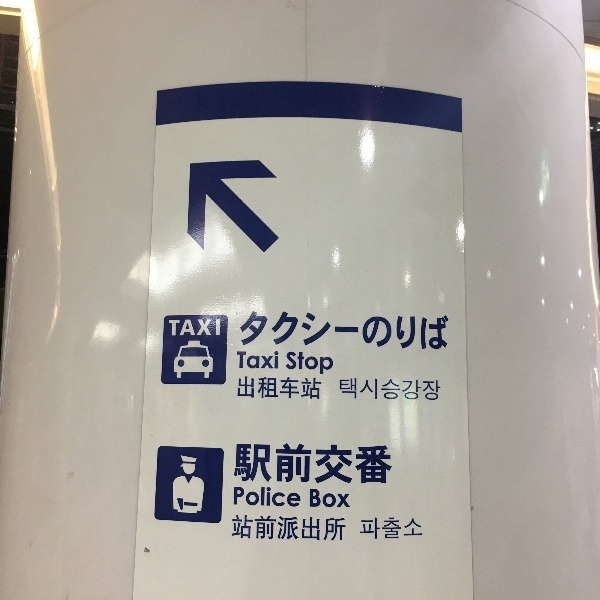text: (433, 312, 449, 351), (241, 444, 256, 485), (257, 444, 272, 485), (273, 444, 288, 485), (289, 444, 304, 485), (305, 444, 320, 485), (321, 444, 336, 485), (337, 444, 352, 485), (353, 444, 368, 485), (369, 444, 384, 485), (257, 312, 272, 351), (273, 312, 288, 351), (289, 312, 304, 351), (305, 312, 320, 351), (321, 312, 336, 351), (337, 312, 352, 351), (353, 312, 368, 351), (369, 312, 384, 351), (385, 312, 400, 351), (401, 312, 416, 351), (417, 312, 432, 351), (242, 312, 256, 351), (241, 515, 256, 541), (257, 515, 272, 541), (273, 515, 288, 541), (289, 515, 304, 541), (305, 515, 320, 541), (321, 515, 336, 541), (241, 375, 256, 400), (257, 375, 272, 400), (273, 375, 288, 400), (289, 375, 304, 400), (305, 375, 320, 400), (289, 352, 304, 375), (305, 352, 320, 375), (353, 378, 368, 400), (369, 378, 384, 400), (385, 378, 400, 400), (401, 378, 416, 400), (417, 378, 432, 400), (241, 487, 256, 508), (257, 487, 272, 508), (273, 487, 288, 508), (369, 519, 384, 540), (385, 519, 400, 540), (401, 519, 416, 540), (321, 352, 334, 375), (385, 444, 392, 485), (241, 351, 256, 370), (257, 351, 272, 370), (321, 489, 336, 508), (340, 378, 352, 400), (289, 487, 301, 508), (337, 489, 350, 508), (177, 320, 192, 336), (193, 320, 208, 336), (337, 515, 346, 541), (209, 320, 221, 336), (310, 489, 320, 508), (233, 515, 240, 541), (433, 378, 441, 400), (362, 519, 368, 540), (417, 519, 423, 540), (237, 444, 240, 485), (273, 351, 279, 370), (169, 320, 176, 336), (235, 487, 240, 508), (237, 351, 240, 370), (238, 375, 240, 400), (286, 352, 288, 375), (321, 375, 322, 400)
